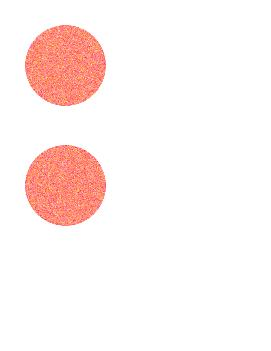B: (16, 19, 255, 336)
